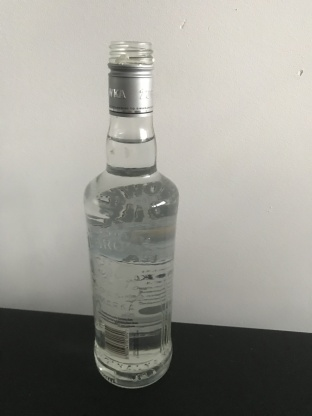nakretka: (105, 38, 155, 119)
